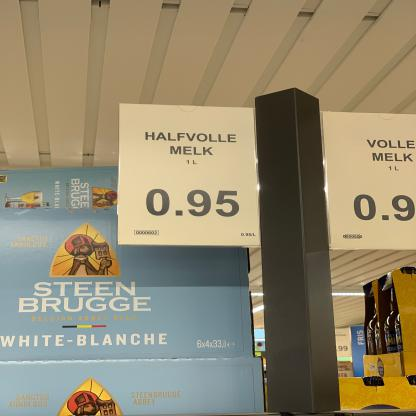prtg: (119, 105, 262, 248), (323, 112, 416, 252)
